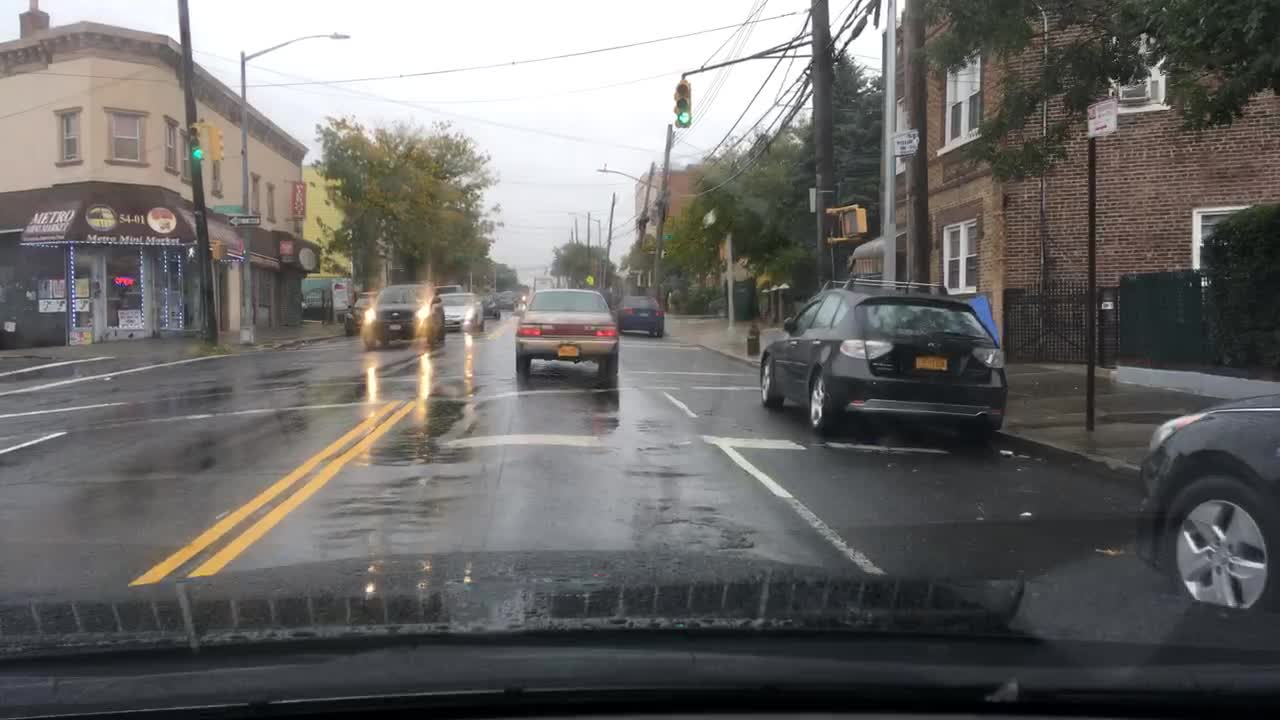car: (751, 278, 1010, 439), (1129, 389, 1276, 631), (512, 287, 618, 388), (365, 282, 444, 350), (616, 295, 666, 342), (440, 292, 482, 329), (301, 284, 341, 318), (344, 292, 370, 330), (482, 295, 505, 320), (497, 288, 517, 309), (439, 282, 462, 292)
person: (335, 282, 349, 324)
traffic light: (837, 207, 867, 236), (187, 122, 205, 162), (676, 80, 690, 126), (209, 127, 227, 161), (210, 237, 229, 262), (182, 239, 198, 258)
traffic sign: (1083, 97, 1114, 139), (209, 202, 243, 216), (228, 211, 262, 224), (661, 229, 673, 244), (585, 269, 597, 284)
